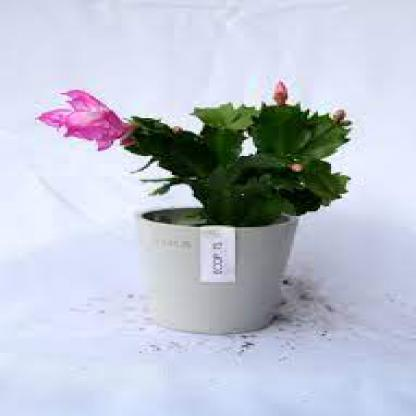Aglonema: (29, 87, 389, 276), (169, 5, 416, 91)
